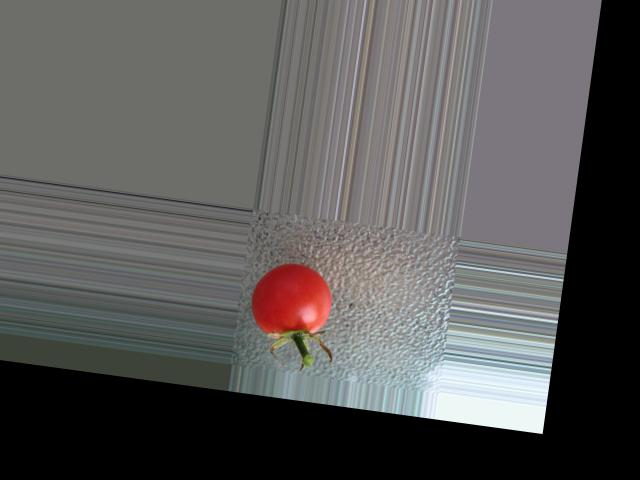tomato: (248, 257, 338, 341)
